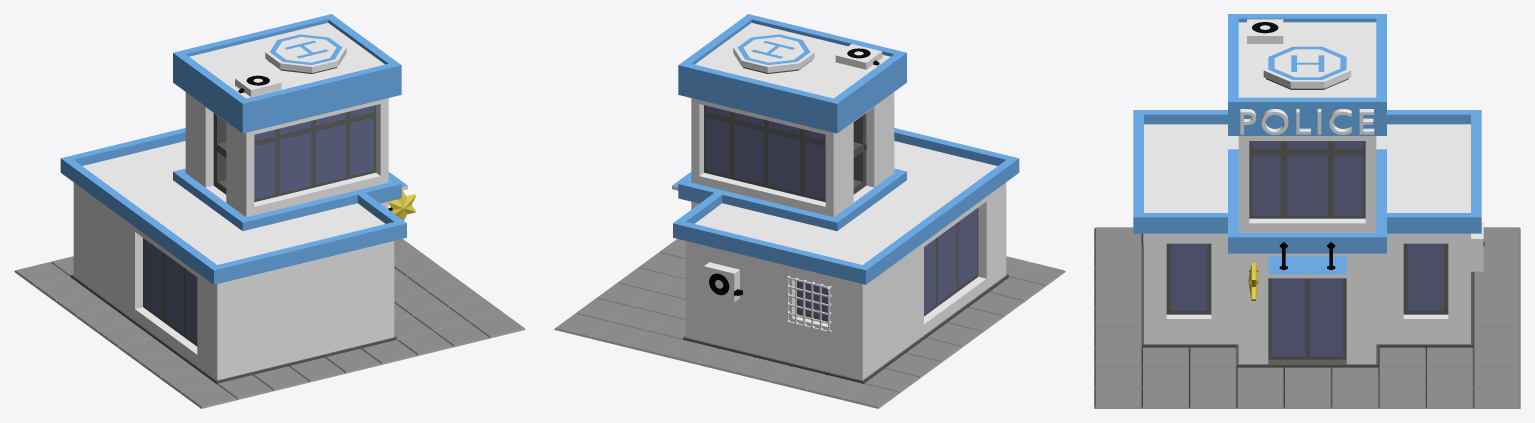
The model's file is PoloceStation.fbx.
The picture shows the model from 3 angles, left to right: view 1: azimuth 30°, elevation 25°; view 2: azimuth 150°, elevation 25°; view 3: azimuth 270°, elevation 25°; orthographic projection. The views are drawn at different scales.
Parts seen in each view (by area): view 1: Building_D; view 2: Building_D; view 3: Building_D.
Part boxes in pixels (box(x1,y1,x2,y2)): Building_D: box(14, 14, 525, 408); Building_D: box(554, 14, 1065, 408); Building_D: box(1094, 14, 1520, 408).
Bounding box in the file's own units: 2000 × 1427 × 2000.
